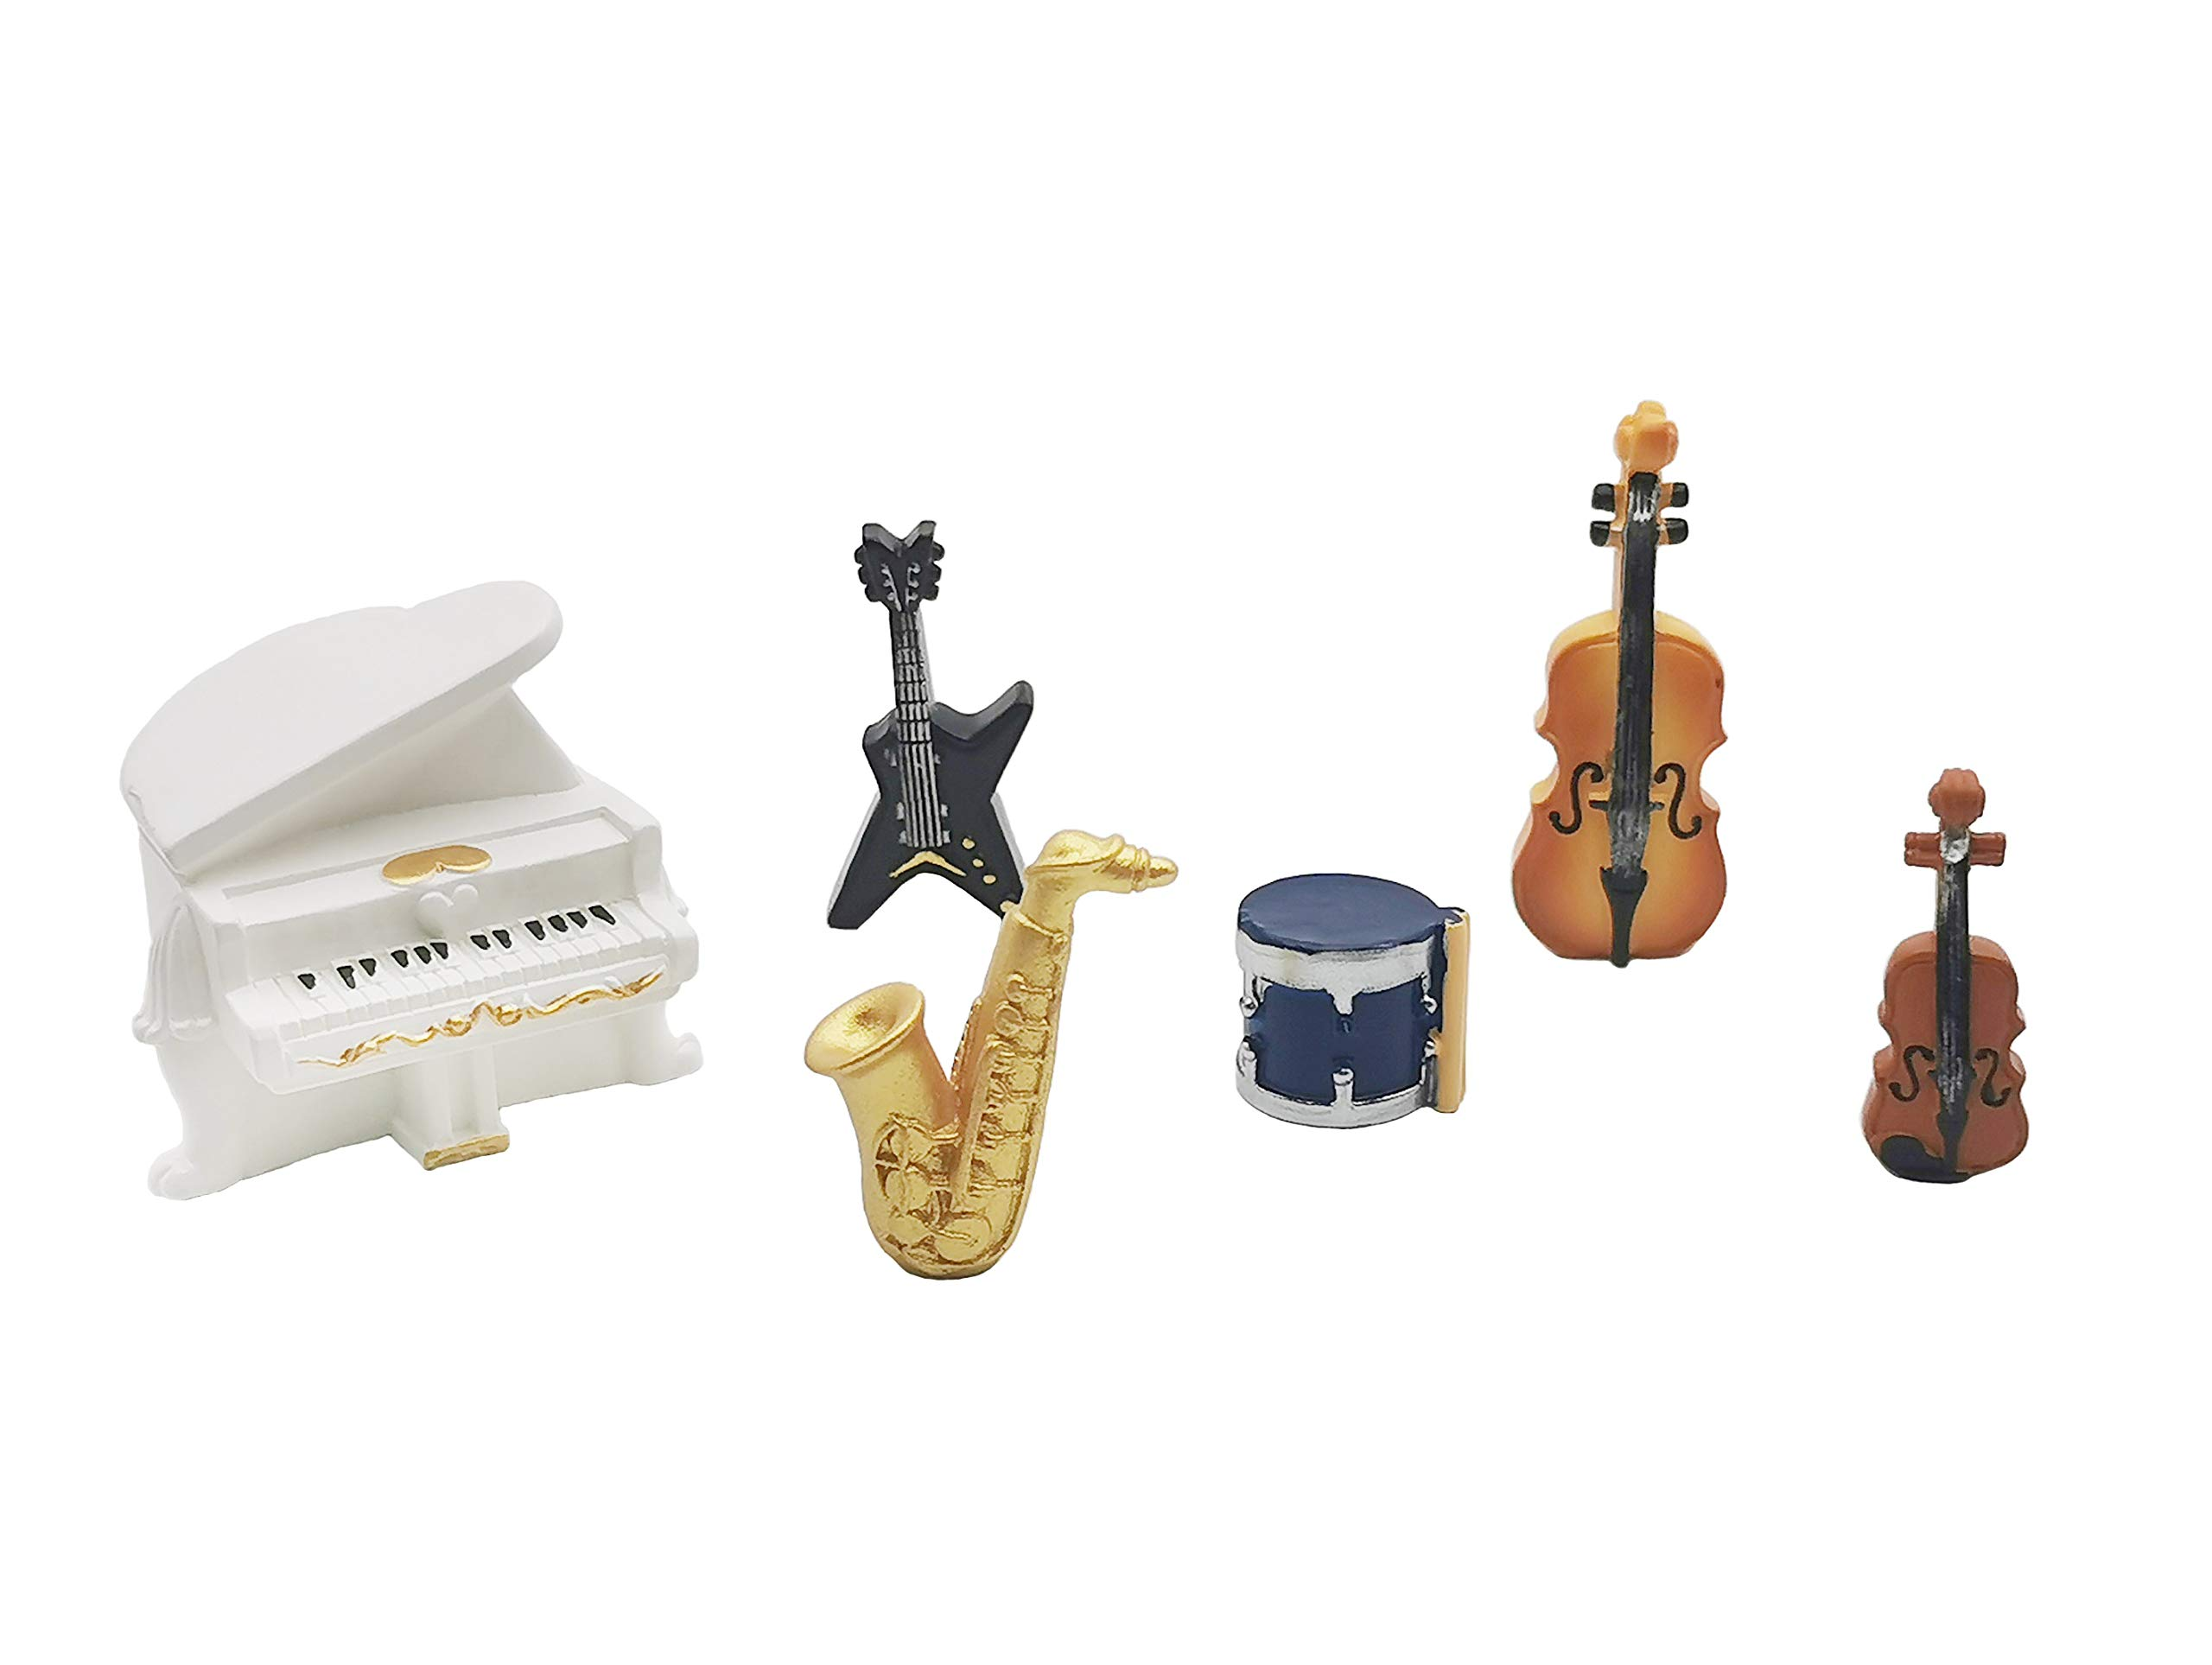Piano: (73, 565, 757, 1266)
Saxophone: (785, 813, 1233, 1361)
Violin: (1873, 710, 2189, 1340)
